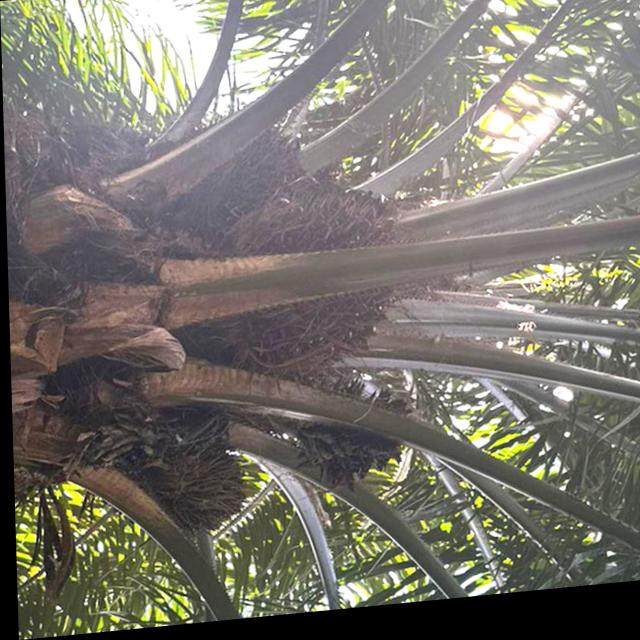ripe: (202, 169, 416, 405)
